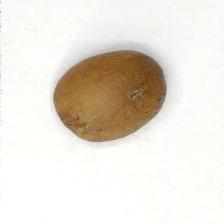NG: (60, 108, 87, 138), (124, 83, 152, 108)
